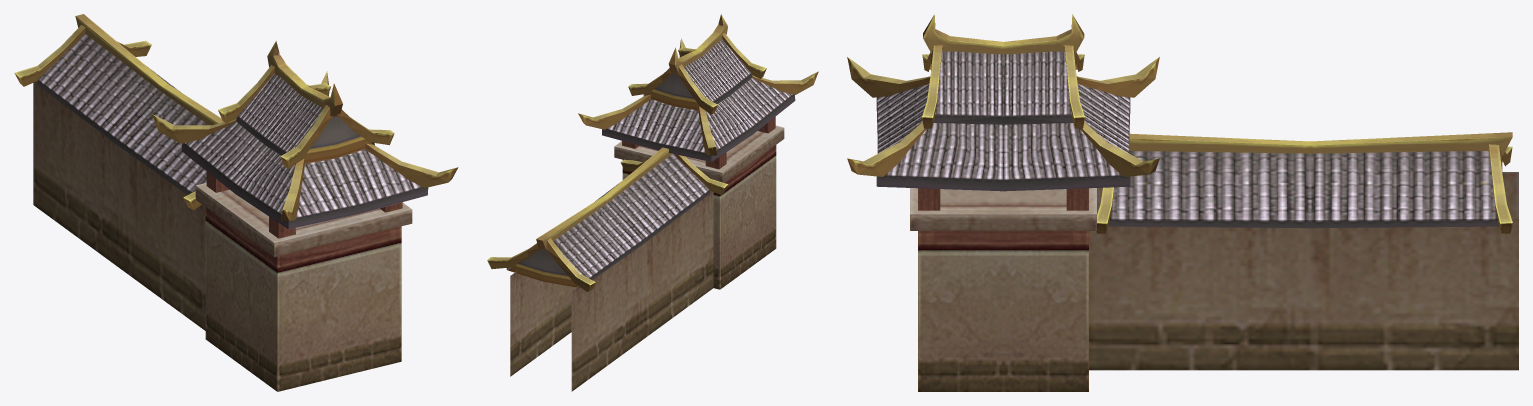
The model's file is MJ_zhanqin_06.FBX.
The picture shows the model from 3 angles, left to right: view 1: azimuth 30°, elevation 25°; view 2: azimuth 150°, elevation 25°; view 3: azimuth 270°, elevation 25°; orthographic projection. The views are drawn at different scales.
Visible parts, largest first — view 1: Object20000008, Object03; view 2: Object03, Object20000008; view 3: Object03, Object20000008.
Part boxes in pixels (left/top/right/bottom): Object20000008: left=152, top=41, right=458, bottom=391; Object03: left=14, top=14, right=223, bottom=330; Object03: left=487, top=147, right=728, bottom=391; Object20000008: left=578, top=14, right=818, bottom=289; Object03: left=1089, top=132, right=1518, bottom=370; Object20000008: left=847, top=14, right=1159, bottom=391.
Bounding box in the file's own units: 7.85 × 12.34 × 21.9.
